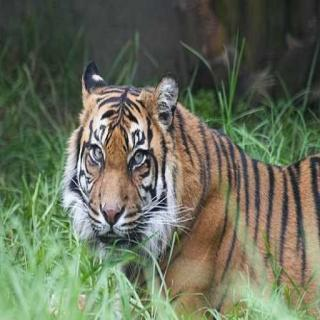Tiger: (53, 53, 320, 320)
